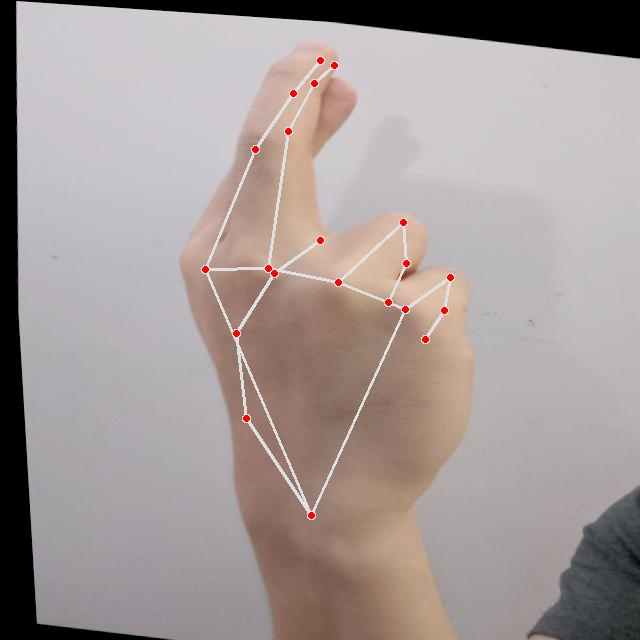R: (137, 14, 508, 548)
